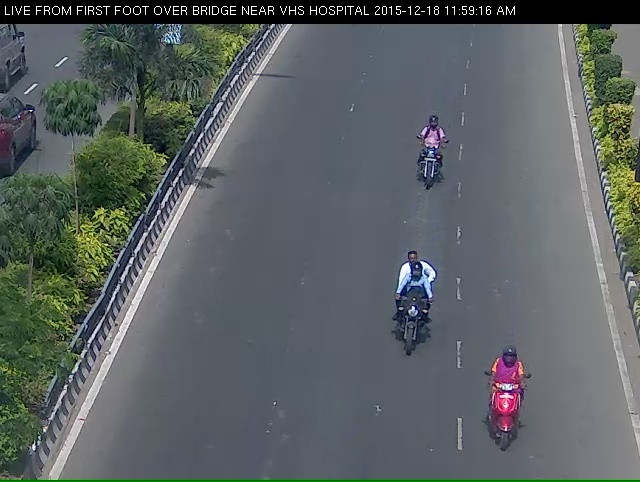Person: (381, 259, 436, 386), (482, 364, 533, 473), (405, 126, 452, 210)
